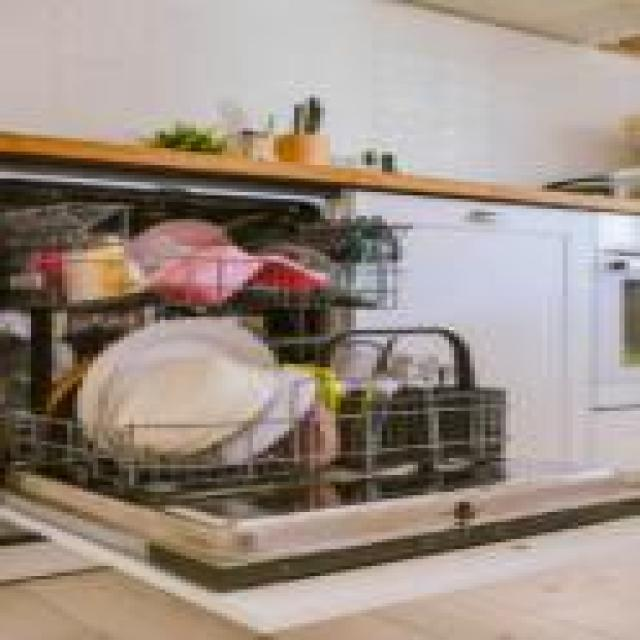dishwasher: (0, 165, 630, 633)
